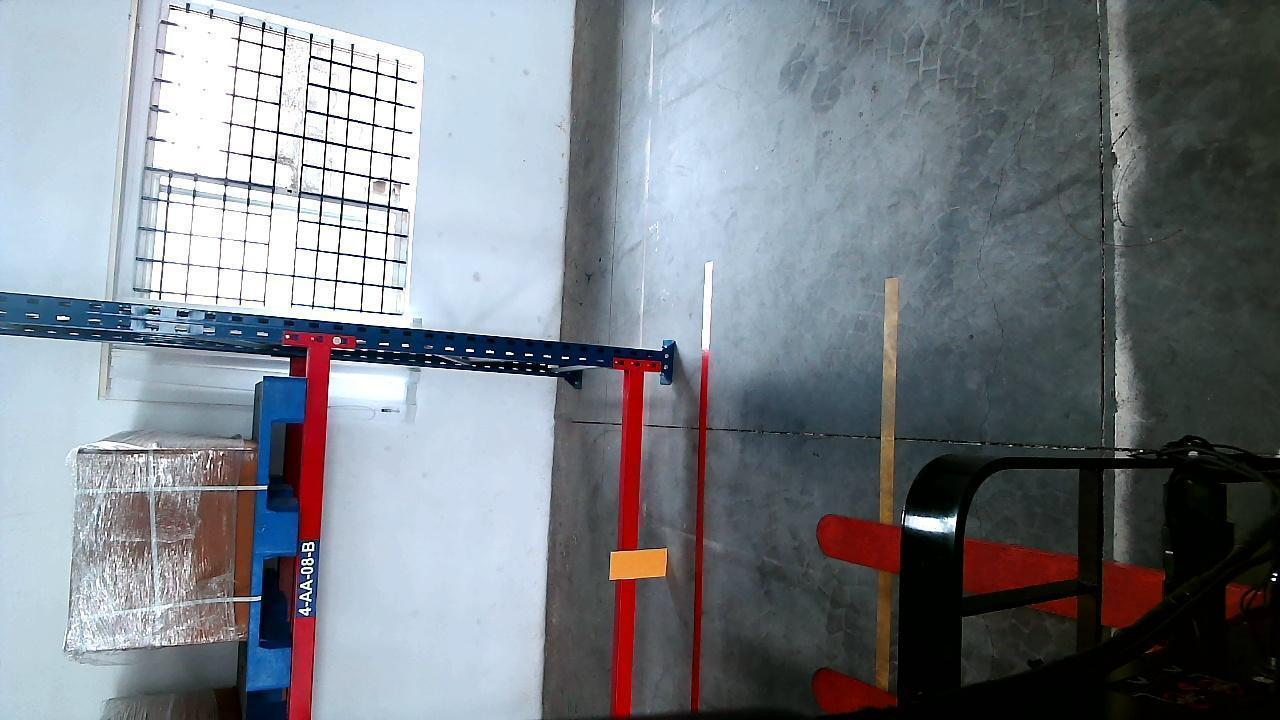red_line: (684, 258, 718, 709)
yellow_line: (878, 278, 897, 694)
